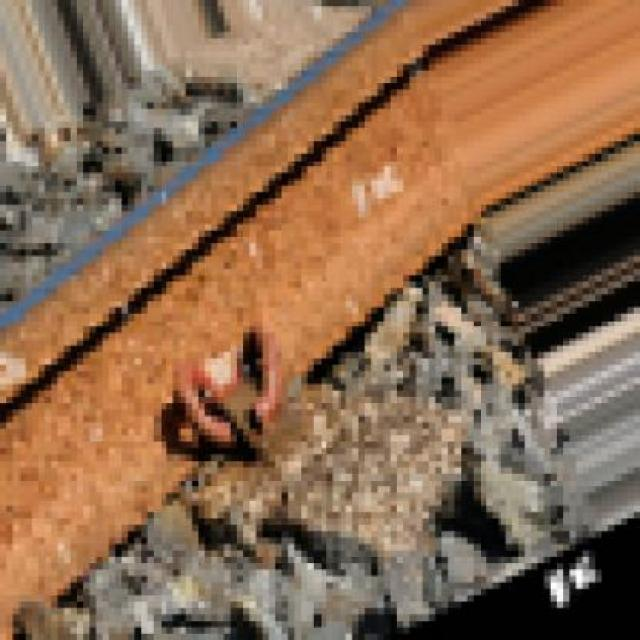defective: (32, 9, 640, 596)
